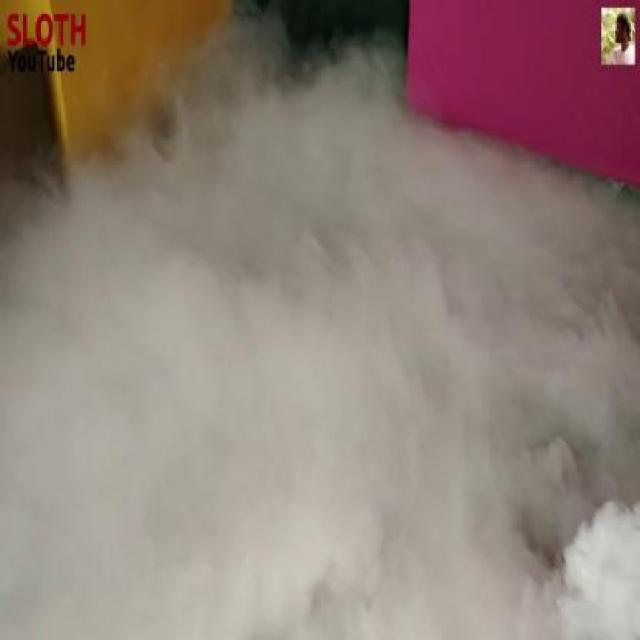smoke: (187, 242, 584, 556)
